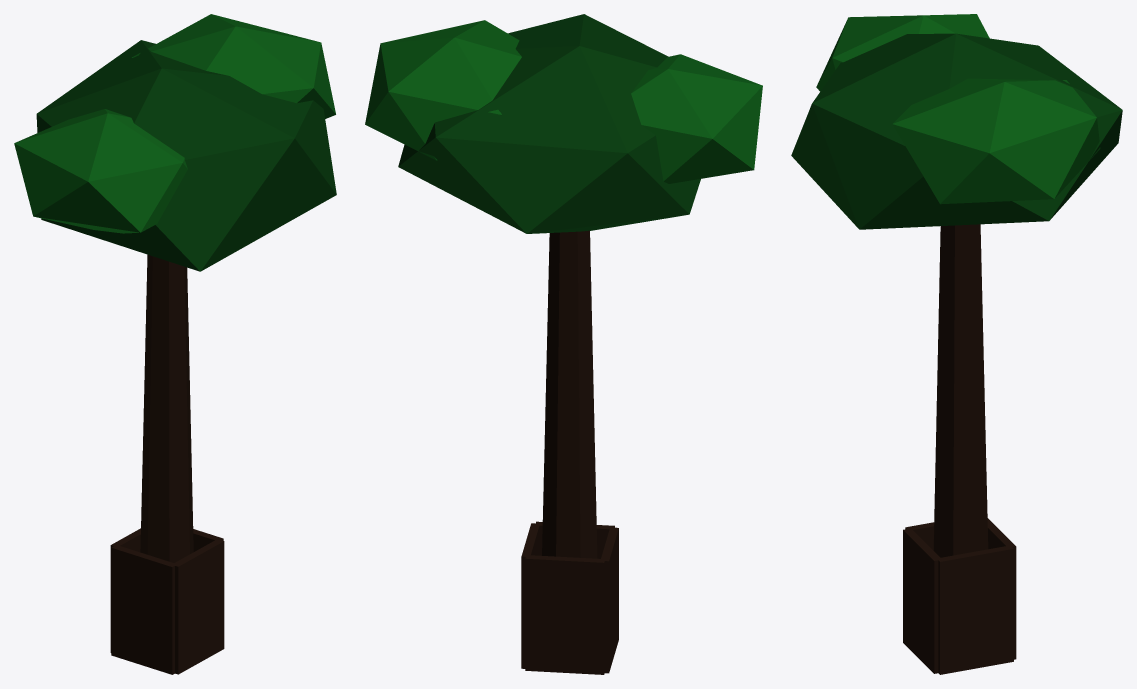
Rendered from jungle_tree.obj.
The picture shows the model from 3 angles, left to right: view 1: azimuth 30°, elevation 25°; view 2: azimuth 150°, elevation 25°; view 3: azimuth 270°, elevation 25°; orthographic projection. The views are drawn at different scales.
Parts seen in each view (by area): view 1: jungle_tree; view 2: jungle_tree; view 3: jungle_tree.
Boxes of the visible parts, <box> form: jungle_tree: <box>14,14,336,674</box>; jungle_tree: <box>365,14,762,674</box>; jungle_tree: <box>791,14,1122,674</box>.
Bounding box in the file's own units: 4.4 × 7.62 × 3.72.
